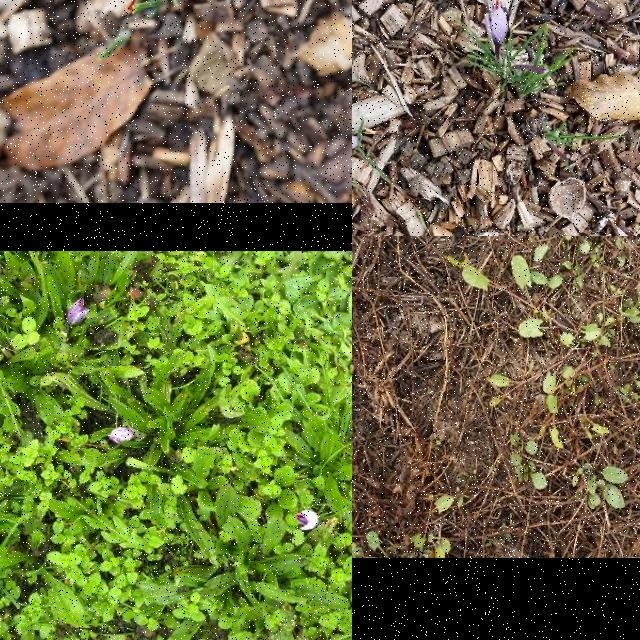flower: (489, 0, 509, 50), (68, 298, 88, 326), (108, 426, 136, 444), (296, 511, 318, 531), (352, 133, 358, 153)
